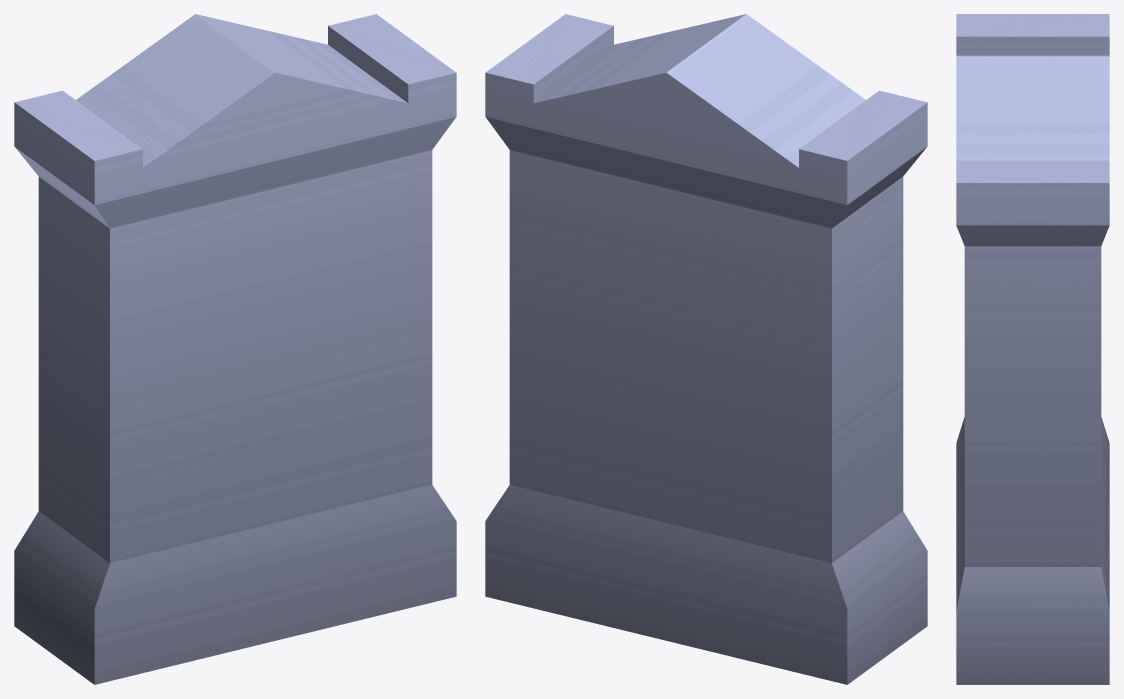
The model's file is gravestone-decorative.glb.
3 renders of one model, left to right at view 1: azimuth 30°, elevation 25°; view 2: azimuth 150°, elevation 25°; view 3: azimuth 270°, elevation 25°, orthographic. The views are drawn at different scales.
Visible parts, largest first — view 1: gravestone-decorative; view 2: gravestone-decorative; view 3: gravestone-decorative.
Part boxes in pixels (bbox=[...]): gravestone-decorative: bbox=[14, 14, 456, 684]; gravestone-decorative: bbox=[485, 14, 927, 684]; gravestone-decorative: bbox=[956, 14, 1109, 684].
Bounding box in the file's own units: 0.39 × 0.585 × 0.1495.
Materials: 1 (1 with a texture image).
